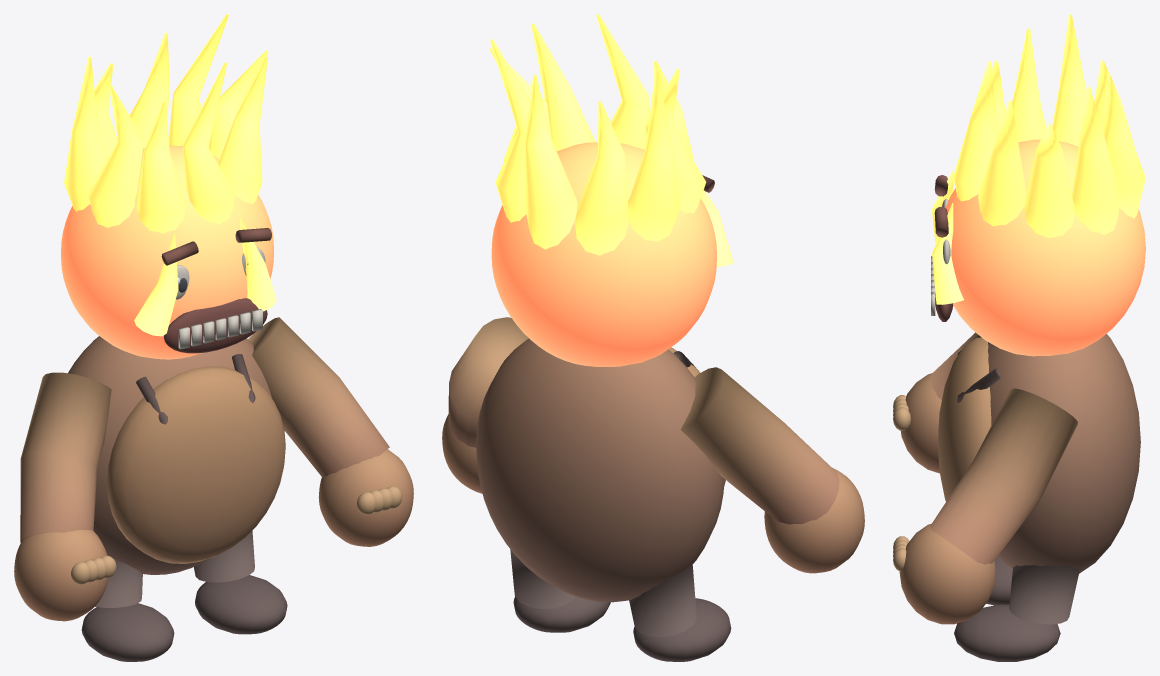
File: vuurkop.glb
The picture shows the model from 3 angles, left to right: view 1: azimuth 30°, elevation 25°; view 2: azimuth 150°, elevation 25°; view 3: azimuth 270°, elevation 25°; orthographic projection. The views are drawn at different scales.
Visible parts, largest first — view 1: opaque__001, ember__020, opaque__004, opaque__012, opaque__000, opaque__005, opaque__013, opaque__011, opaque__019, fire__023, fire__025, fire__024 (+11 smaller); view 2: opaque__000, ember__020, opaque__004, fire__028, opaque__005, fire__027, fire__026, opaque__012, opaque__010, opaque__011, fire__022, fire__029 (+7 smaller); view 3: ember__020, opaque__000, opaque__012, opaque__013, opaque__001, fire__029, opaque__019, fire__021, fire__022, opaque__018, fire__023, fire__028 (+10 smaller).
Part boxes in pixels (left/top/right/bottom): opaque__001: left=107, top=366, right=285, bottom=563; ember__020: left=61, top=145, right=273, bottom=359; opaque__004: left=20, top=372, right=111, bottom=542; opaque__012: left=248, top=317, right=389, bottom=476; opaque__000: left=68, top=336, right=272, bottom=574; opaque__005: left=14, top=530, right=108, bottom=621; opaque__013: left=318, top=449, right=413, bottom=546; opaque__011: left=81, top=603, right=174, bottom=661; opaque__019: left=195, top=575, right=287, bottom=634; fire__023: left=182, top=62, right=234, bottom=224; fire__025: left=88, top=85, right=144, bottom=227; fire__024: left=137, top=101, right=185, bottom=233; opaque__000: left=476, top=338, right=724, bottom=602; ember__020: left=491, top=142, right=716, bottom=366; opaque__004: left=680, top=367, right=839, bottom=524; fire__028: left=524, top=74, right=577, bottom=249; opaque__005: left=764, top=468, right=864, bottom=573; fire__027: left=574, top=101, right=628, bottom=255; fire__026: left=628, top=70, right=679, bottom=241; opaque__012: left=448, top=317, right=528, bottom=447; opaque__010: left=629, top=565, right=696, bottom=636; opaque__011: left=633, top=598, right=731, bottom=661; fire__022: left=531, top=23, right=595, bottom=151; fire__029: left=490, top=39, right=529, bottom=222; ember__020: left=945, top=139, right=1145, bottom=356; opaque__000: left=988, top=334, right=1140, bottom=573; opaque__012: left=930, top=388, right=1077, bottom=564; opaque__013: left=899, top=523, right=995, bottom=624; opaque__001: left=937, top=337, right=991, bottom=501; fire__029: left=1072, top=86, right=1120, bottom=234; opaque__019: left=954, top=604, right=1060, bottom=661; fire__021: left=1024, top=123, right=1074, bottom=237; fire__022: left=978, top=100, right=1026, bottom=226; opaque__018: left=1009, top=565, right=1079, bottom=624; fire__023: left=953, top=61, right=997, bottom=201; fire__028: left=1102, top=75, right=1145, bottom=218.
Bounding box in the file's own units: 0.7027 × 1 × 0.3941.
